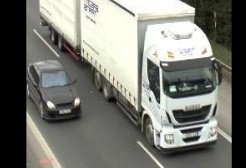truck: (39, 0, 218, 153)
